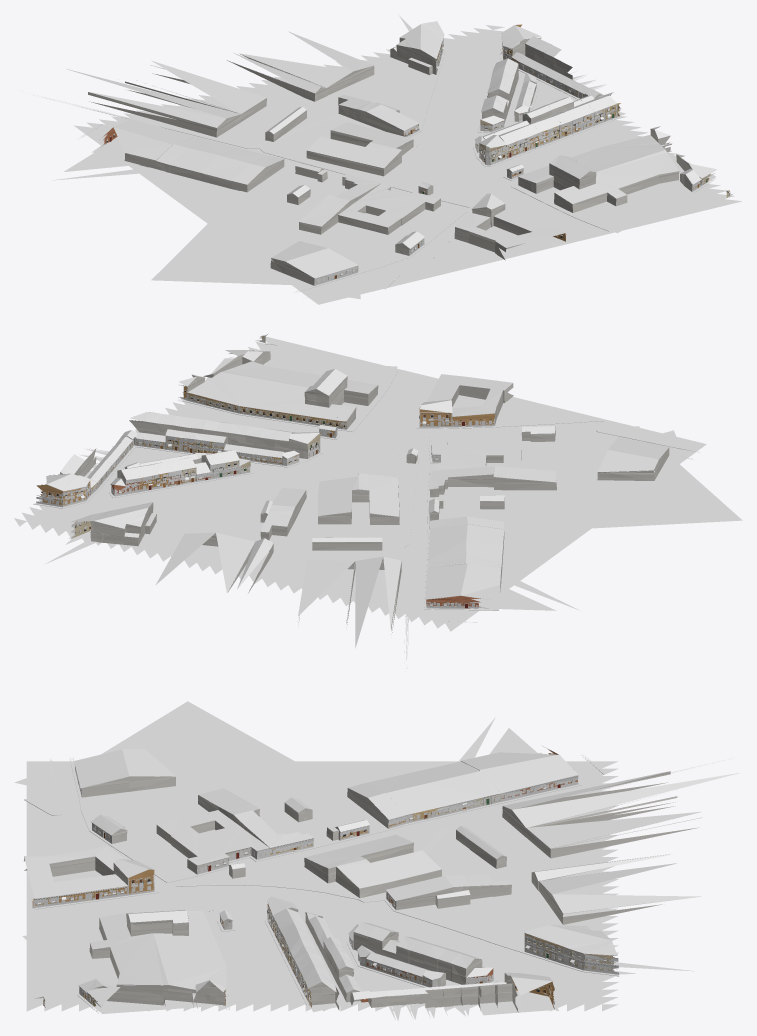
File: zona_-3_0.glb
3 views of the same model, one above another, from view 1: azimuth 30°, elevation 25°; view 2: azimuth 150°, elevation 25°; view 3: azimuth 270°, elevation 25° (orthographic). The views are drawn at different scales.
Parts seen in each view (by area): view 1: z_calle_-3_0, z_tejados_-3_0, z_casas_-3_0, z_fachadas_-3_0, z_casas_planas_-3_0; view 2: z_calle_-3_0, z_tejados_-3_0, z_casas_-3_0, z_fachadas_-3_0, z_casas_planas_-3_0; view 3: z_calle_-3_0, z_tejados_-3_0, z_casas_-3_0, z_fachadas_-3_0, z_casas_planas_-3_0, z_suelo_-3_0.
Part boxes in pixels (x1,y1,x2,y2): z_calle_-3_0: [33, 14, 741, 304]; z_tejados_-3_0: [67, 21, 716, 278]; z_casas_-3_0: [88, 24, 730, 285]; z_fachadas_-3_0: [100, 38, 732, 285]; z_casas_planas_-3_0: [317, 57, 671, 234]; z_calle_-3_0: [14, 336, 742, 671]; z_tejados_-3_0: [41, 350, 669, 648]; z_casas_-3_0: [37, 333, 669, 634]; z_fachadas_-3_0: [36, 336, 494, 608]; z_casas_planas_-3_0: [145, 440, 521, 534]; z_calle_-3_0: [14, 701, 730, 1020]; z_tejados_-3_0: [24, 746, 738, 1005]; z_casas_-3_0: [24, 749, 702, 1012]; z_fachadas_-3_0: [32, 766, 618, 1008]; z_casas_planas_-3_0: [156, 810, 338, 1008]; z_suelo_-3_0: [28, 911, 267, 1005].
Size of the model in its own units: 261 by 12.15 by 251.
